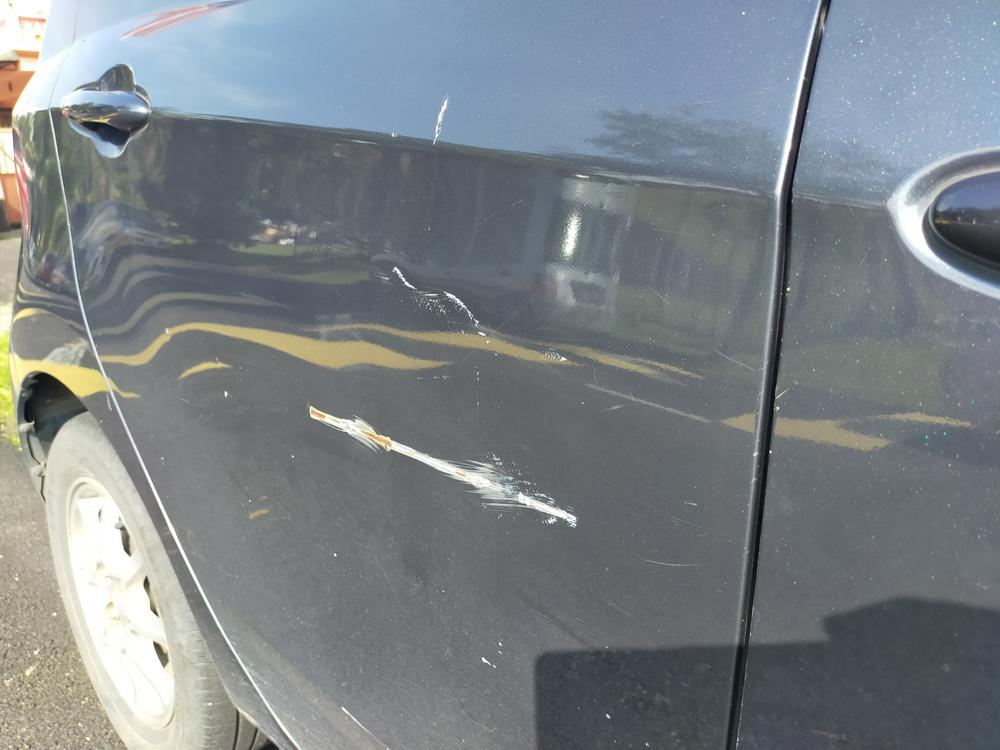scratch: (296, 400, 589, 529), (380, 260, 506, 367)
